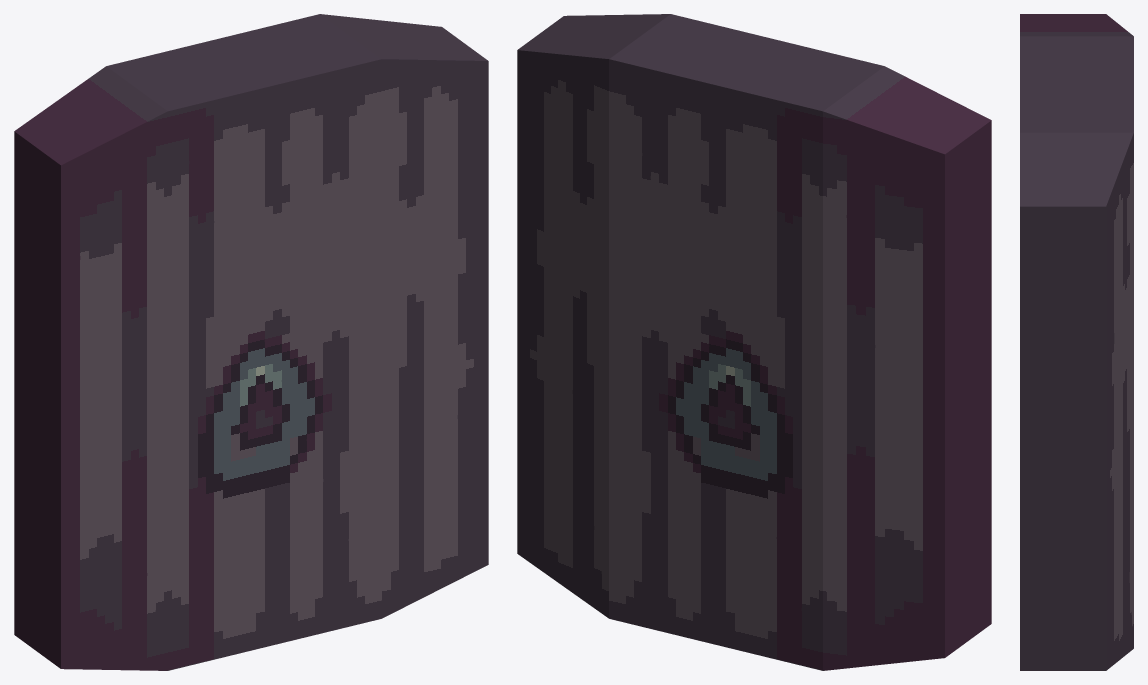
The model's file is door.glb.
3 views of the same model, side by side, from view 1: azimuth 30°, elevation 25°; view 2: azimuth 150°, elevation 25°; view 3: azimuth 270°, elevation 25° (orthographic). The views are drawn at different scales.
Parts seen in each view (by area): view 1: Cube; view 2: Cube; view 3: Cube.
Boxes of the visible parts, box(x1,y1,x2,y2) form: Cube: box(14, 14, 488, 670); Cube: box(517, 14, 991, 670); Cube: box(1020, 14, 1133, 670).
Size of the model in its own units: 4 by 5 by 1.
Materials: 1 (1 with a texture image).
